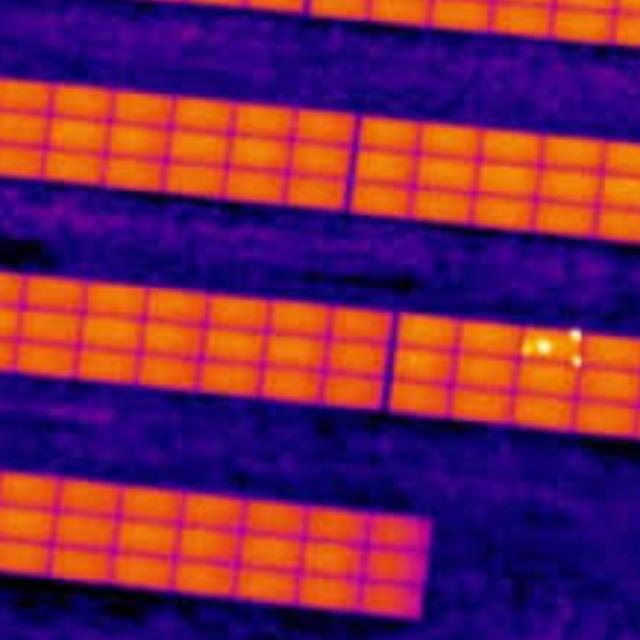hotspot group: (524, 338, 553, 356), (570, 330, 584, 345), (569, 352, 583, 366)
panel with hotspots: (517, 323, 583, 367)
